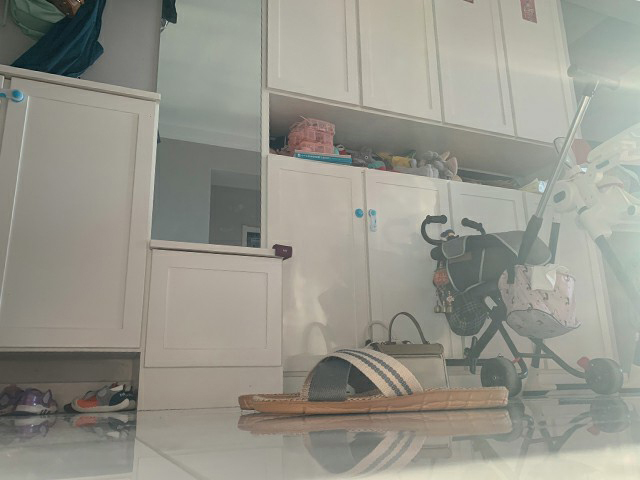cabinet: (260, 1, 599, 387), (136, 238, 291, 412)
slippers: (237, 347, 508, 415)
